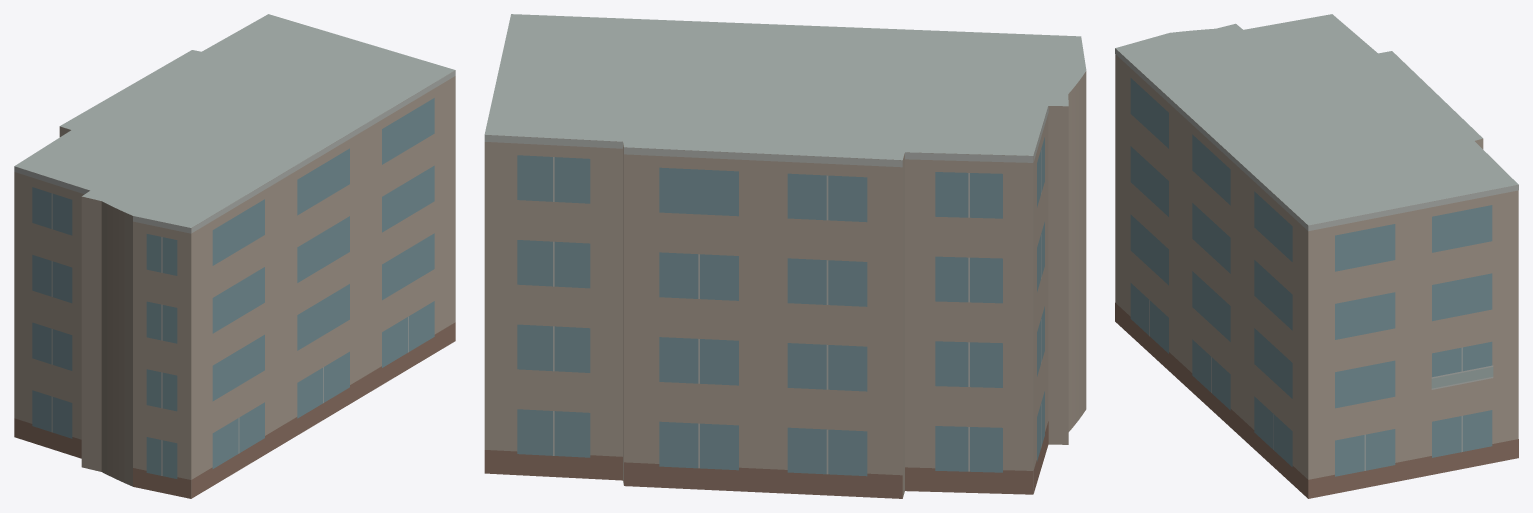
The model's file is survey-upis-32921304.glb.
3 renders of one model, left to right at view 1: azimuth 30°, elevation 25°; view 2: azimuth 150°, elevation 25°; view 3: azimuth 270°, elevation 25°, orthographic. The views are drawn at different scales.
Parts seen in each view (by area): view 1: survey-upis-32921304.tmp; view 2: survey-upis-32921304.tmp; view 3: survey-upis-32921304.tmp.
Part boxes in pixels (x1=…): survey-upis-32921304.tmp: x1=14, y1=14, x2=455, y2=498; survey-upis-32921304.tmp: x1=484, y1=14, x2=1086, y2=498; survey-upis-32921304.tmp: x1=1115, y1=14, x2=1518, y2=498.
Bounding box in the file's own units: 19.43 × 11.7 × 15.67.
